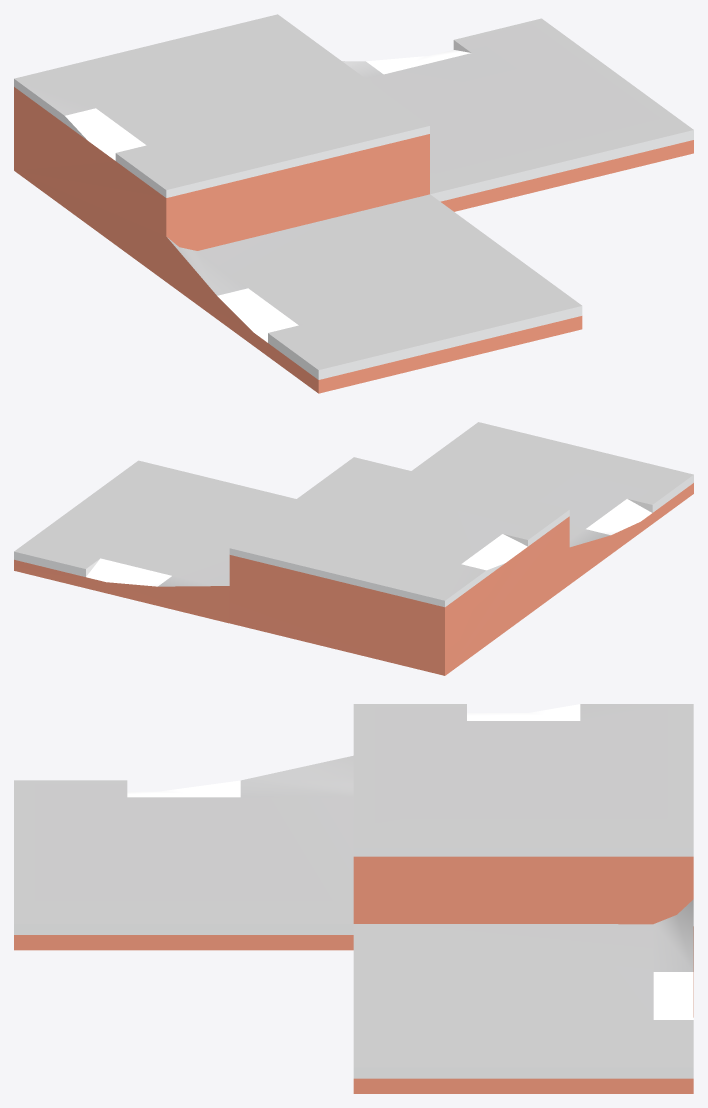
Rendered from platform_008.glb.
3 views of the same model, one above another, from view 1: azimuth 30°, elevation 25°; view 2: azimuth 150°, elevation 25°; view 3: azimuth 270°, elevation 25° (orthographic). The views are drawn at different scales.
Visible parts, largest first — view 1: platform_008; view 2: platform_008; view 3: platform_008.
Boxes of the visible parts, left/top/right/bottom form: platform_008: left=14, top=14, right=693, bottom=393; platform_008: left=14, top=422, right=693, bottom=675; platform_008: left=14, top=704, right=693, bottom=1093.
Size of the model in its own units: 30 by 5 by 30.02.
Materials: 1 (1 with a texture image).
